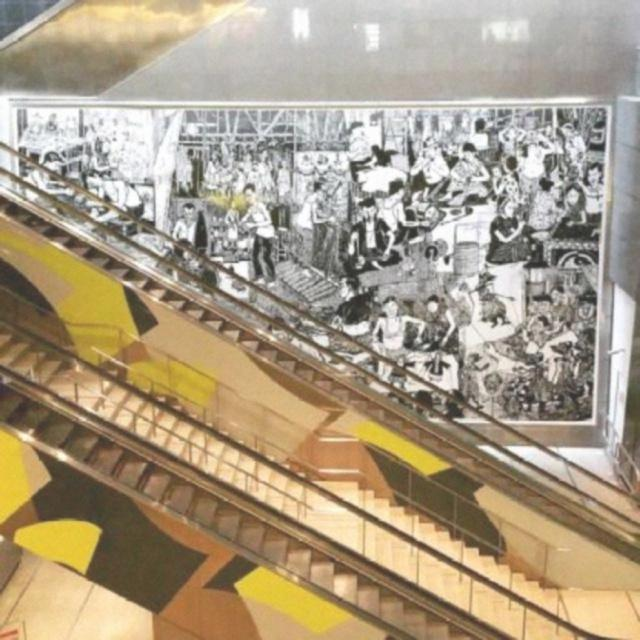stair: (1, 184, 604, 534), (0, 316, 551, 638), (0, 386, 473, 638)
